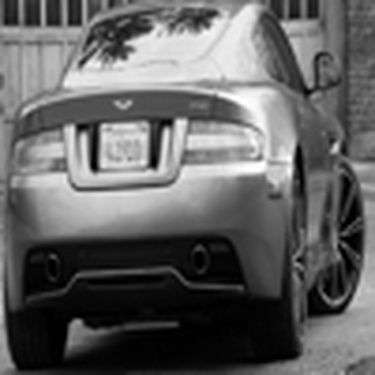car: (4, 1, 371, 372)
